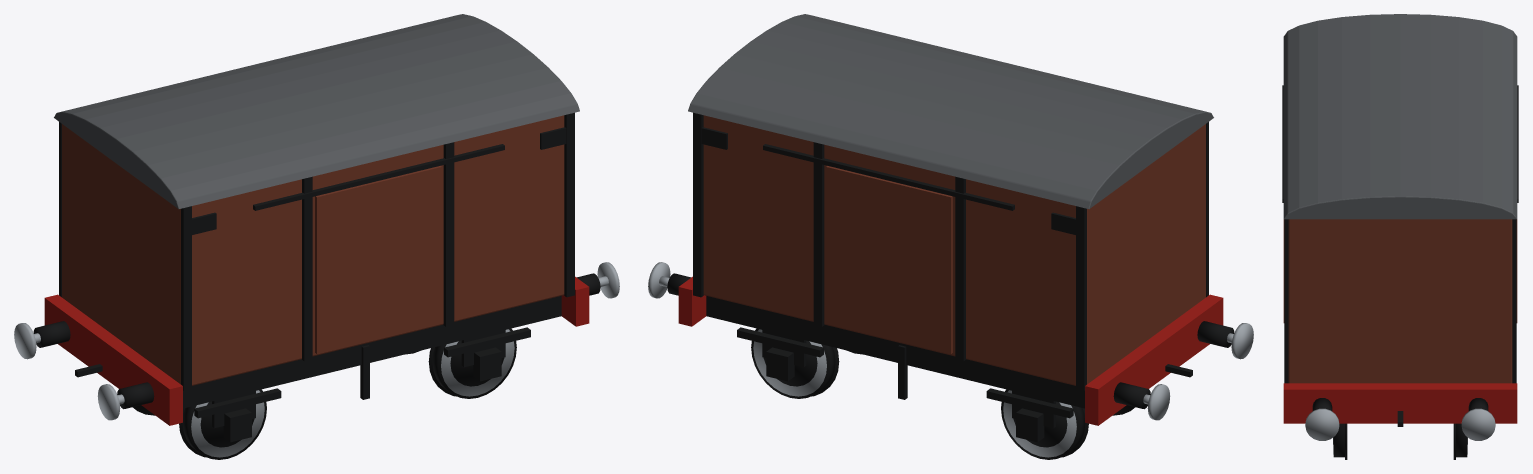
The model's file is goods_van.glb.
3 views of the same model, side by side, from view 1: azimuth 30°, elevation 25°; view 2: azimuth 150°, elevation 25°; view 3: azimuth 270°, elevation 25° (orthographic). The views are drawn at different scales.
Parts seen in each view (by area): view 1: corpo, teto, porta_correr.001, longarina.001, viga.001, montante.006, montante.004, montante.007, montante.005, trilho_porta.001, roda_face-1, roda_face-1.001 (+13 smaller); view 2: corpo, teto, porta_correr, longarina, viga.001, montante.002, montante, montante.003, montante.001, trilho_porta, roda_face1, roda_face1.001 (+13 smaller); view 3: teto, corpo, viga, buffer_cabeca, buffer_cabeca.001, montante.003, montante.007, roda_roda1, roda_roda-1.
Boxes of the visible parts, left/top/right/bottom form: corpo: left=62, top=115, right=564, bottom=385; teto: left=54, top=14, right=579, bottom=208; porta_correr.001: left=315, top=166, right=441, bottom=353; longarina.001: left=183, top=296, right=561, bottom=408; viga.001: left=44, top=294, right=182, bottom=425; montante.006: left=443, top=142, right=454, bottom=326; montante.004: left=181, top=206, right=191, bottom=390; montante.007: left=564, top=112, right=574, bottom=297; montante.005: left=302, top=176, right=312, bottom=361; trilho_porta.001: left=253, top=144, right=504, bottom=210; roda_face-1: left=441, top=329, right=514, bottom=396; roda_face-1.001: left=191, top=390, right=264, bottom=457; corpo: left=703, top=115, right=1205, bottom=385; teto: left=688, top=14, right=1213, bottom=208; porta_correr: left=826, top=166, right=952, bottom=353; longarina: left=706, top=296, right=1084, bottom=408; viga.001: left=1085, top=294, right=1223, bottom=425; montante.002: left=813, top=142, right=824, bottom=326; montante: left=1076, top=206, right=1086, bottom=390; montante.003: left=693, top=112, right=703, bottom=297; montante.001: left=955, top=176, right=965, bottom=361; trilho_porta: left=763, top=144, right=1014, bottom=210; roda_face1: left=753, top=329, right=826, bottom=396; roda_face1.001: left=1003, top=390, right=1076, bottom=457; teto: left=1283, top=14, right=1517, bottom=219; corpo: left=1288, top=219, right=1512, bottom=383; viga: left=1283, top=383, right=1517, bottom=423; buffer_cabeca: left=1461, top=408, right=1495, bottom=440; buffer_cabeca.001: left=1305, top=408, right=1339, bottom=440; montante.003: left=1512, top=219, right=1516, bottom=383; montante.007: left=1284, top=219, right=1288, bottom=383; roda_roda1: left=1456, top=423, right=1467, bottom=457; roda_roda-1: left=1333, top=423, right=1344, bottom=457.
Size of the model in its own units: 6.05 by 3.61 by 2.63.
